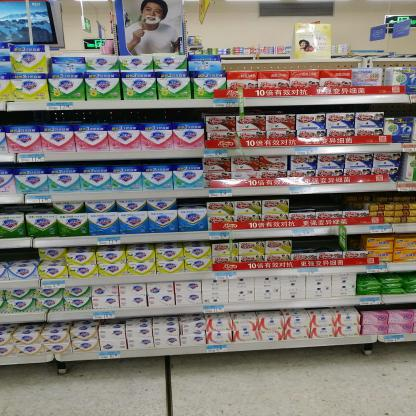Void: (2, 113, 197, 122), (291, 197, 364, 209), (295, 239, 338, 249), (3, 251, 35, 259), (178, 198, 205, 206), (349, 237, 361, 248)
